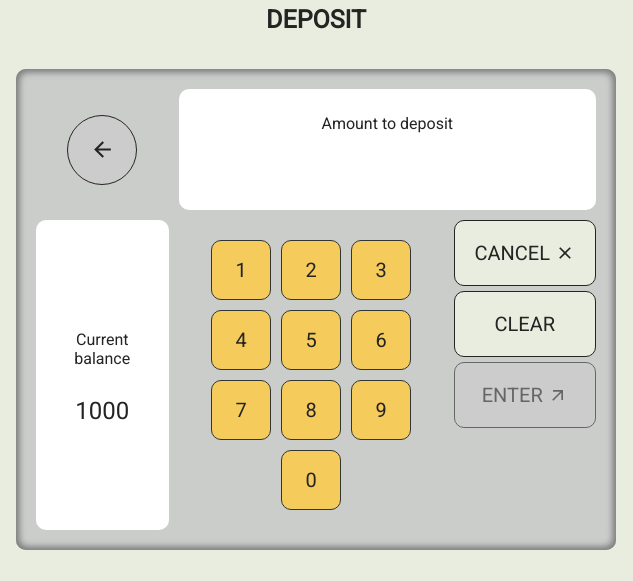
Test: Transaction Component › prevents starting with 0
This screenshot has width=633, height=581.
Click the button "0": [311, 480] box x1=281 y1=450 x2=341 y2=510
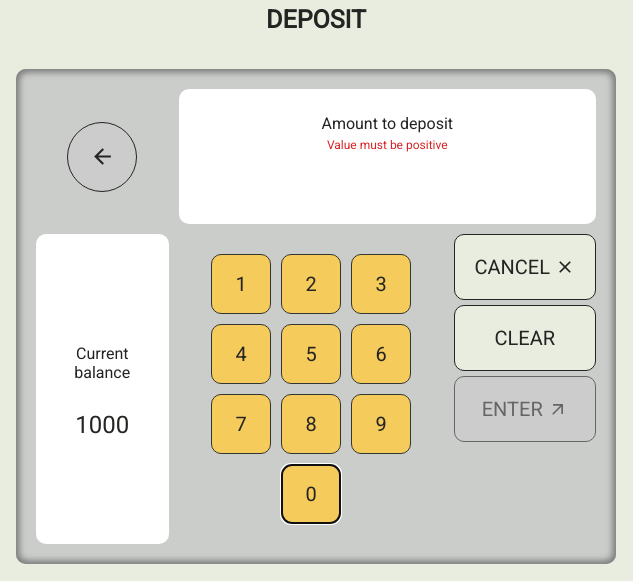
Now the text "Value must be positive" is shown, box x1=327 y1=138 x2=448 y2=152
